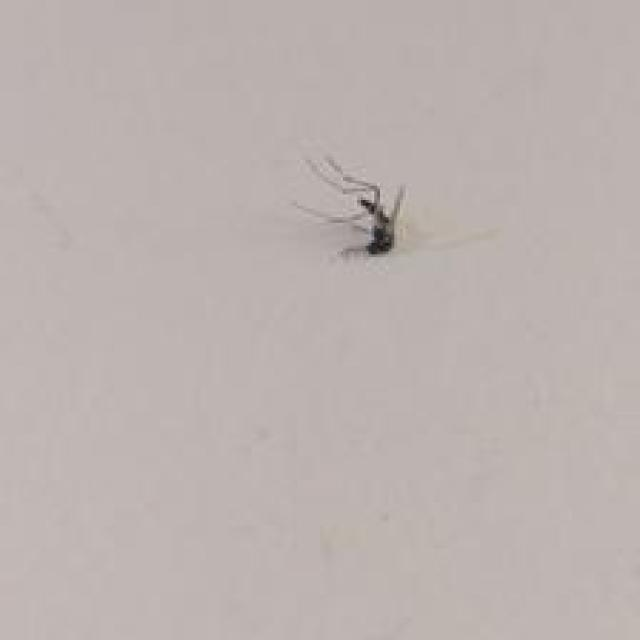Aedes albopictus: (293, 153, 410, 258)
